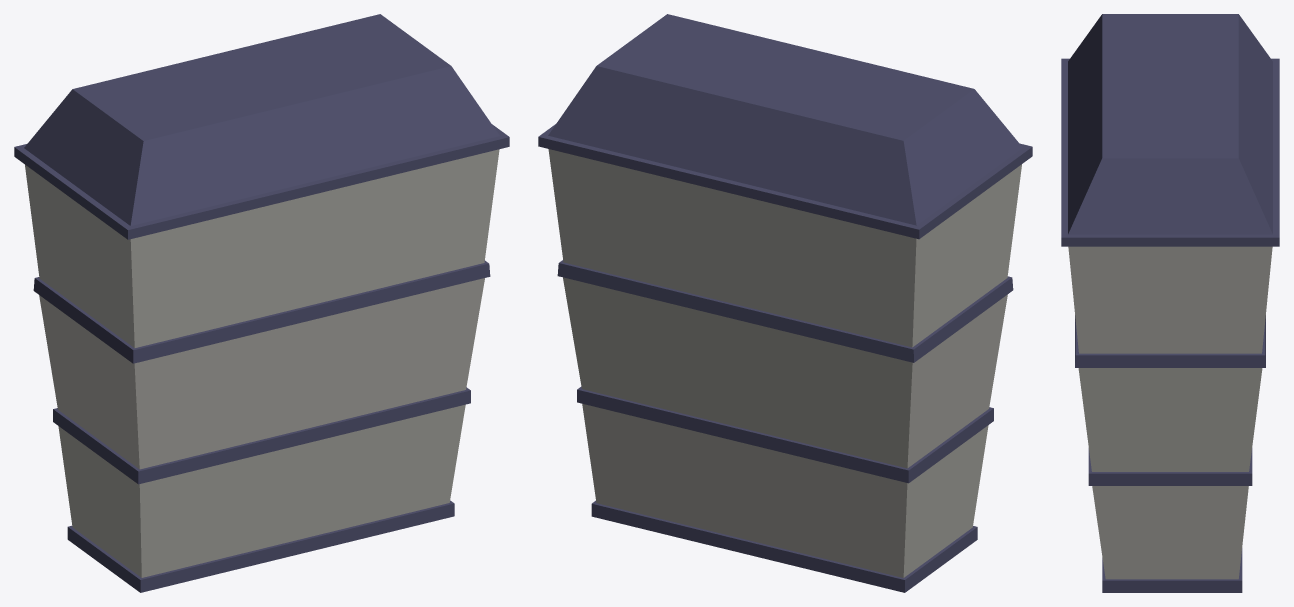
Rendered from paris_building_scaled_tall_01.fbx.
The picture shows the model from 3 angles, left to right: view 1: azimuth 30°, elevation 25°; view 2: azimuth 150°, elevation 25°; view 3: azimuth 270°, elevation 25°; orthographic projection. The views are drawn at different scales.
Visible parts, largest first — view 1: Cube-convcol; view 2: Cube-convcol; view 3: Cube-convcol.
Part boxes in pixels (x1,y1,x2,y2): Cube-convcol: [14, 14, 509, 592]; Cube-convcol: [538, 14, 1032, 592]; Cube-convcol: [1061, 14, 1279, 592].
Bounding box in the file's own units: 1240 × 1400 × 640.
